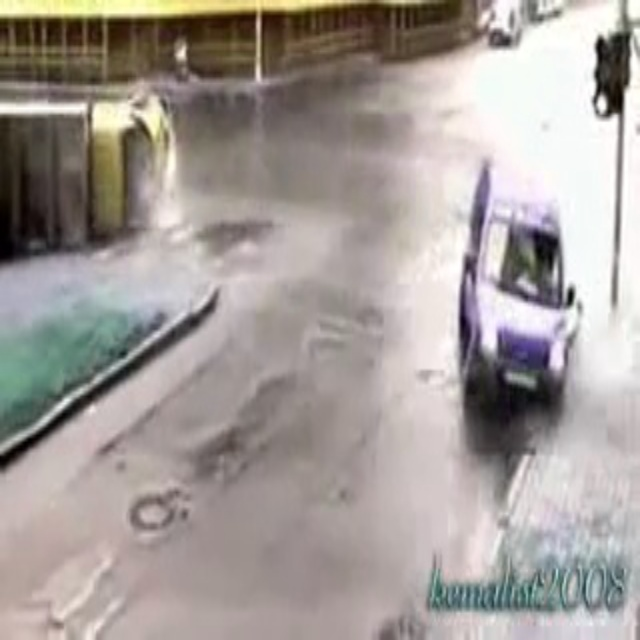acc: (1, 82, 569, 399)
